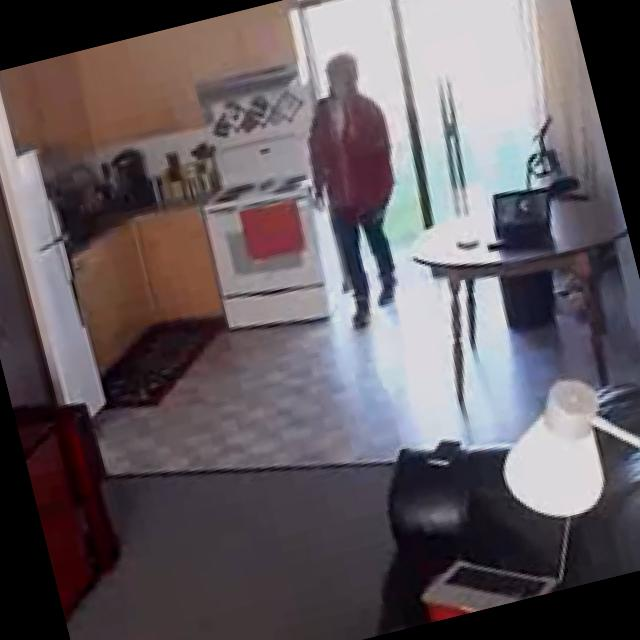person: (280, 45, 433, 331)
